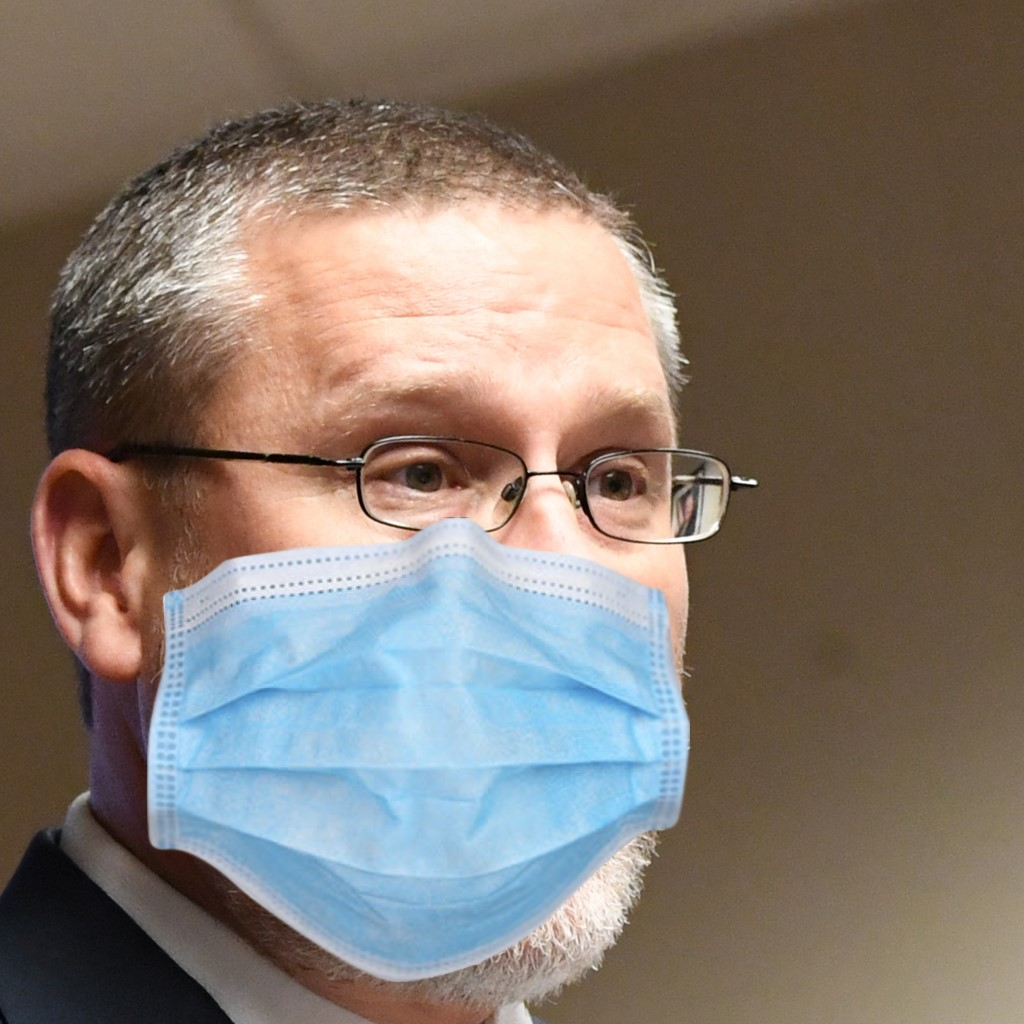con_mascara: (146, 176, 701, 970)
